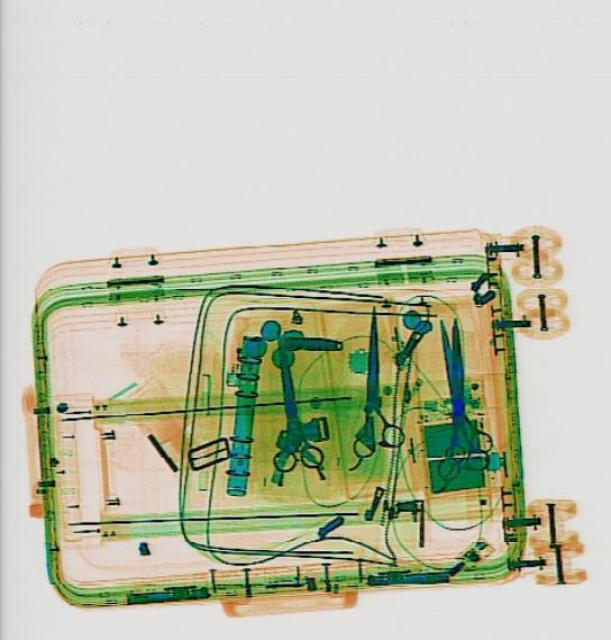Scissors: (414, 316, 488, 478), (251, 338, 324, 472), (428, 316, 494, 464), (349, 305, 401, 459)
